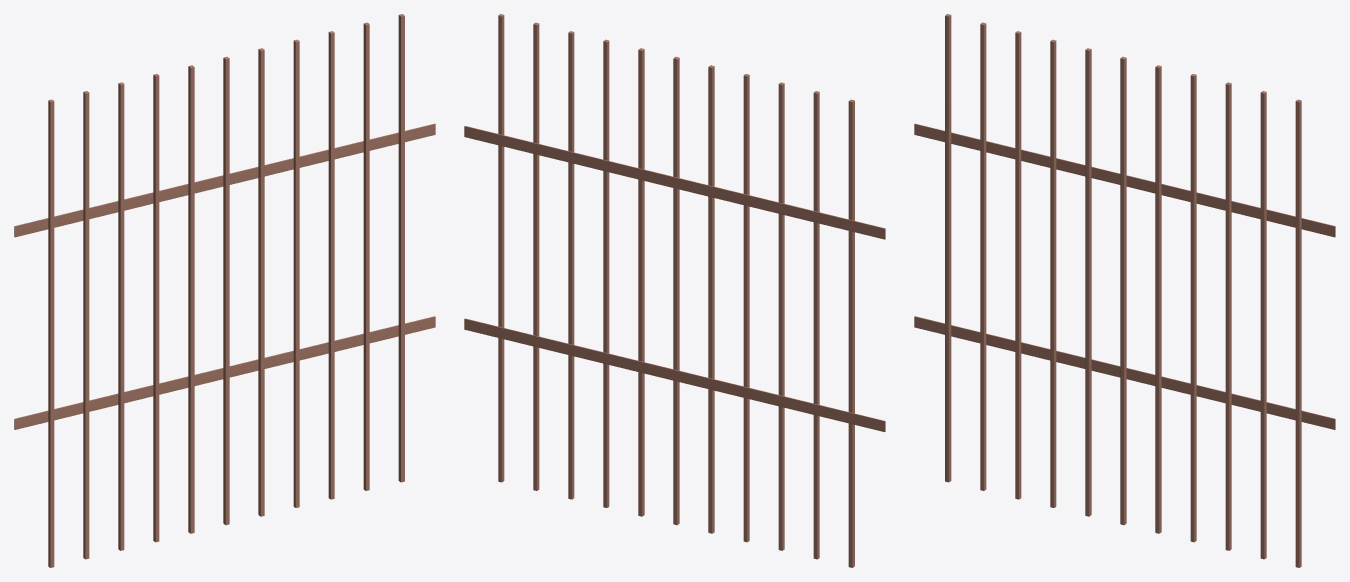
The model's file is window-grille-bars.glb.
3 renders of one model, left to right at view 1: azimuth 30°, elevation 25°; view 2: azimuth 150°, elevation 25°; view 3: azimuth 330°, elevation 25°, orthographic.
Parts seen in each view (by area): view 1: window-grille-bars; view 2: window-grille-bars; view 3: window-grille-bars.
Part boxes in pixels (x1,y1,x2,y2): window-grille-bars: (14,14,435,567); window-grille-bars: (464,14,885,567); window-grille-bars: (914,14,1335,567).
Bounding box in the file's own units: 1.6 × 1.69 × 0.02.
